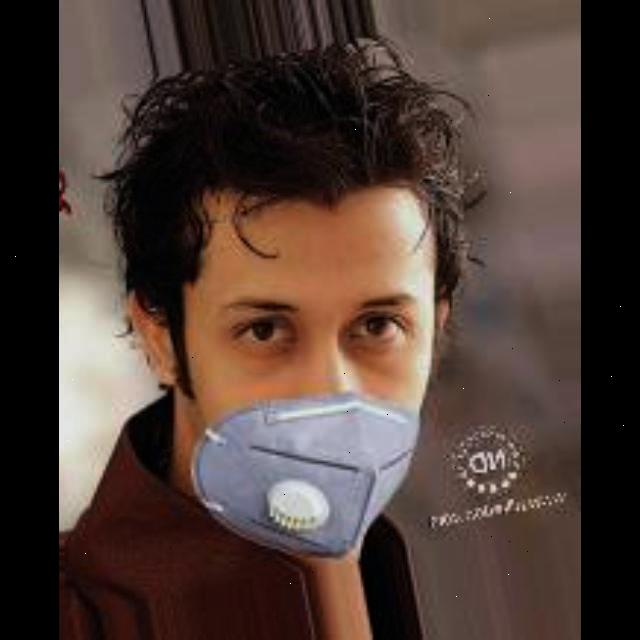suspicion: (139, 176, 459, 534)
